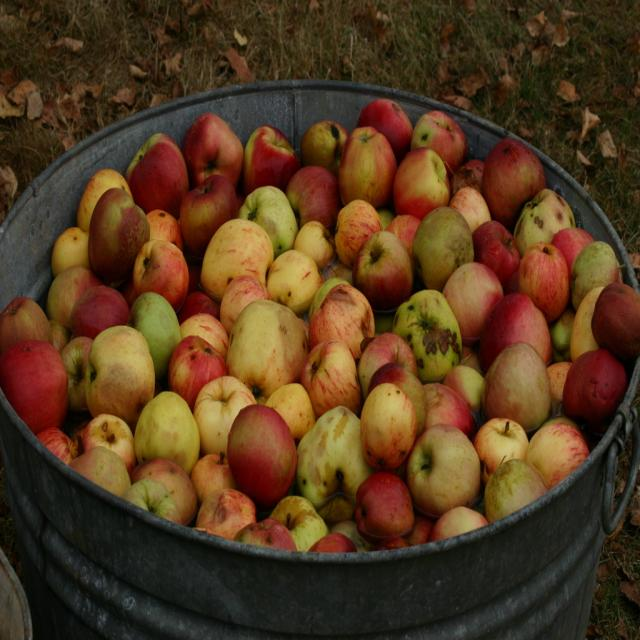Healty Apple: (0, 97, 640, 554), (418, 414, 491, 521)
